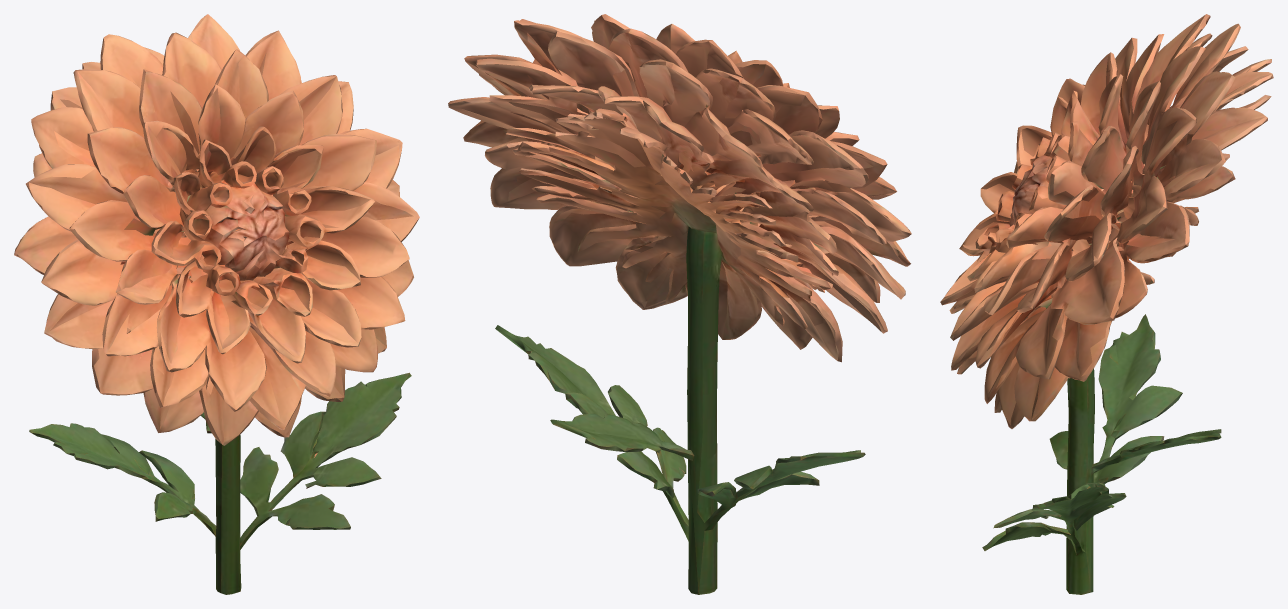
Rendered from lux-dahlia.glb.
3 renders of one model, left to right at view 1: azimuth 30°, elevation 25°; view 2: azimuth 150°, elevation 25°; view 3: azimuth 270°, elevation 25°, orthographic. The views are drawn at different scales.
Visible parts, largest first — view 1: geometry_0; view 2: geometry_0; view 3: geometry_0.
Boxes of the visible parts, <box> form: geometry_0: <box>14,14,419,594</box>; geometry_0: <box>448,14,911,594</box>; geometry_0: <box>940,14,1273,594</box>.
Bounding box in the file's own units: 0.2268 × 0.3 × 0.1662.
Materials: 1 (1 with a texture image).
